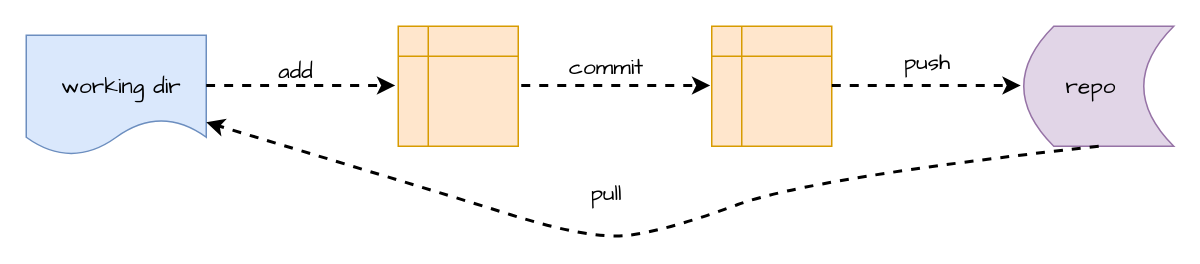
The diagram is 1200 pixels wide and 264 high, and some of its shapes have lost their labels. The shapes that lost their labels are listed below. From the top down, each one's centre as x and y in pixels, then its label:
At point (457, 85): "staged".
At point (771, 85): "head".
